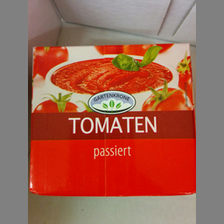tomato_sauce: (29, 41, 195, 198)
